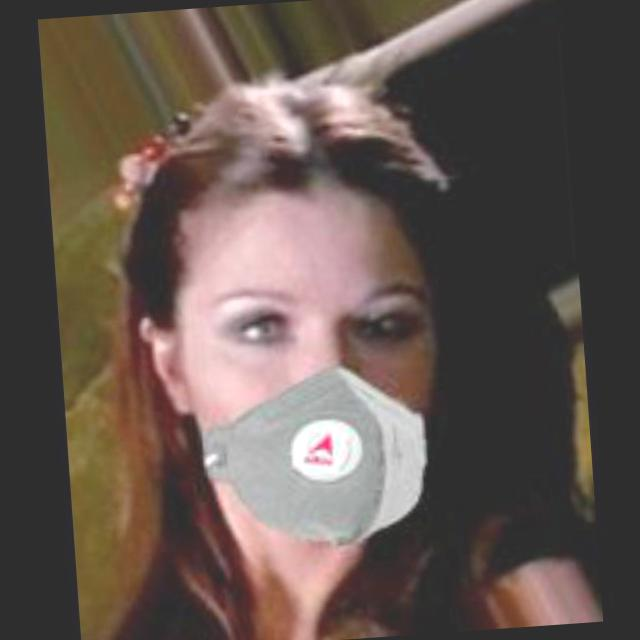suspicion: (154, 171, 454, 555)
